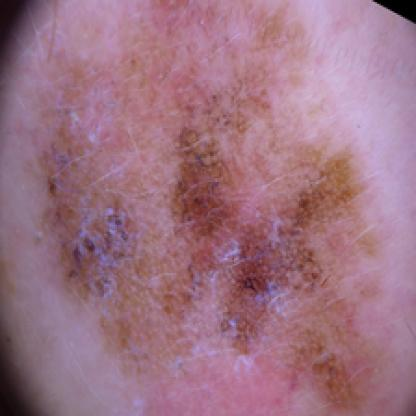Skin_Cancer-Malignant: (39, 0, 386, 416)
